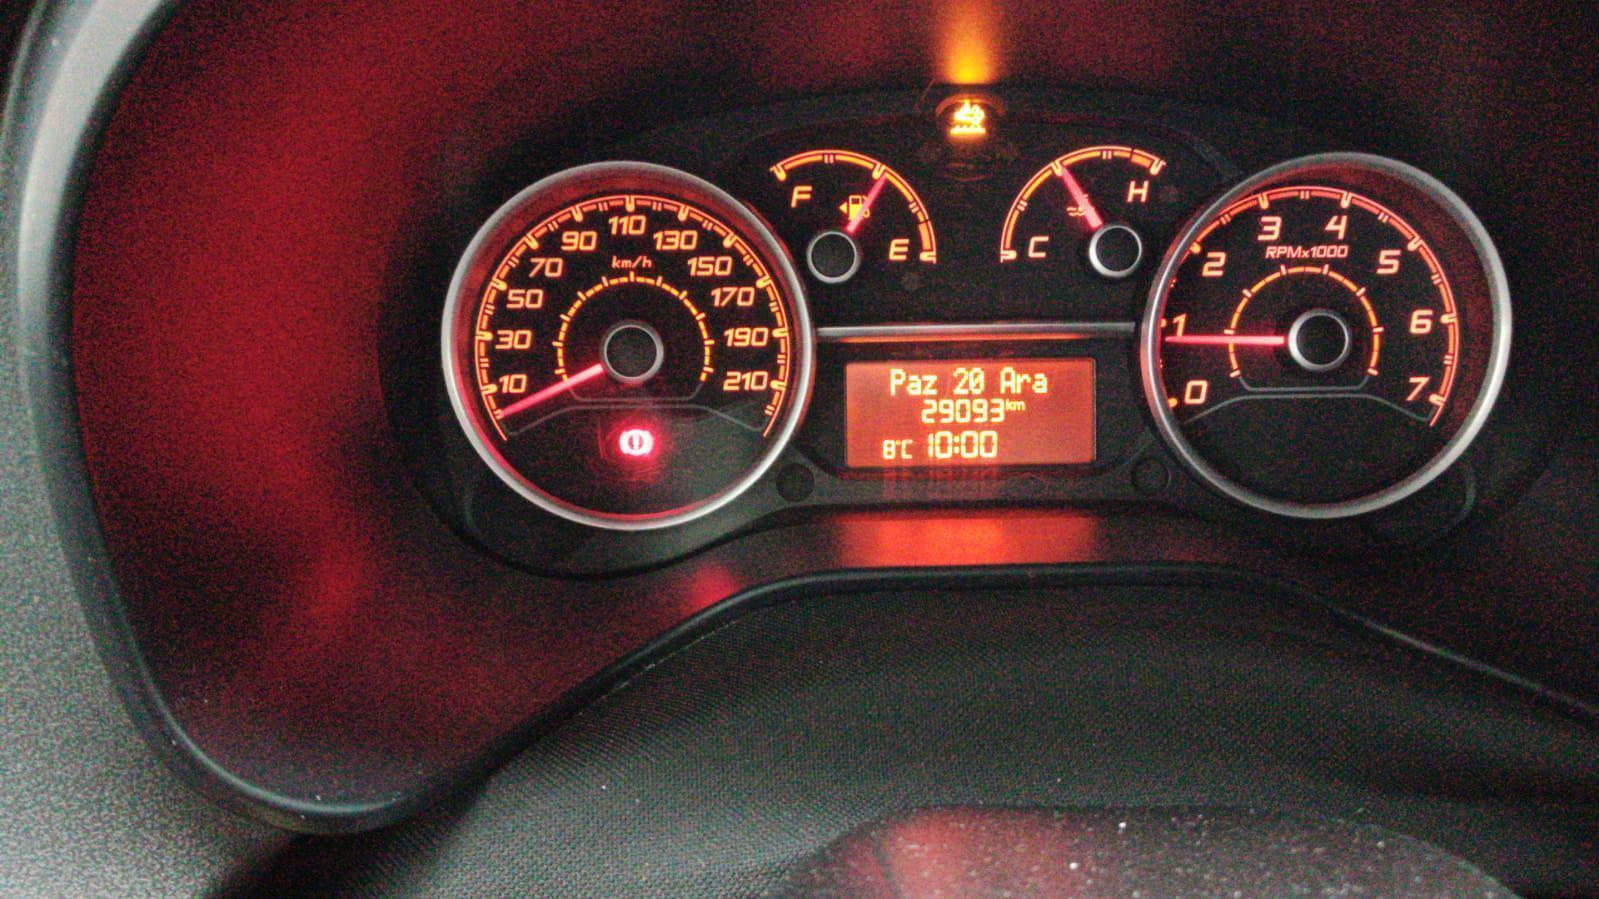0: (980, 429, 1000, 458), (960, 429, 979, 460), (969, 366, 986, 394), (935, 430, 952, 459), (954, 398, 971, 424)
1: (927, 431, 933, 459)
2: (952, 366, 969, 396), (921, 397, 936, 424)
3: (989, 398, 1004, 424)
8: (882, 437, 896, 459)
9: (938, 397, 953, 425), (971, 397, 987, 423)
X: (888, 366, 905, 397), (923, 372, 940, 397), (1032, 370, 1049, 394), (1000, 367, 1015, 394), (1016, 371, 1030, 395), (901, 438, 915, 460), (907, 373, 921, 395), (952, 432, 960, 456), (1014, 398, 1026, 411), (1006, 397, 1013, 412)
odometer: (840, 358, 1098, 467)
